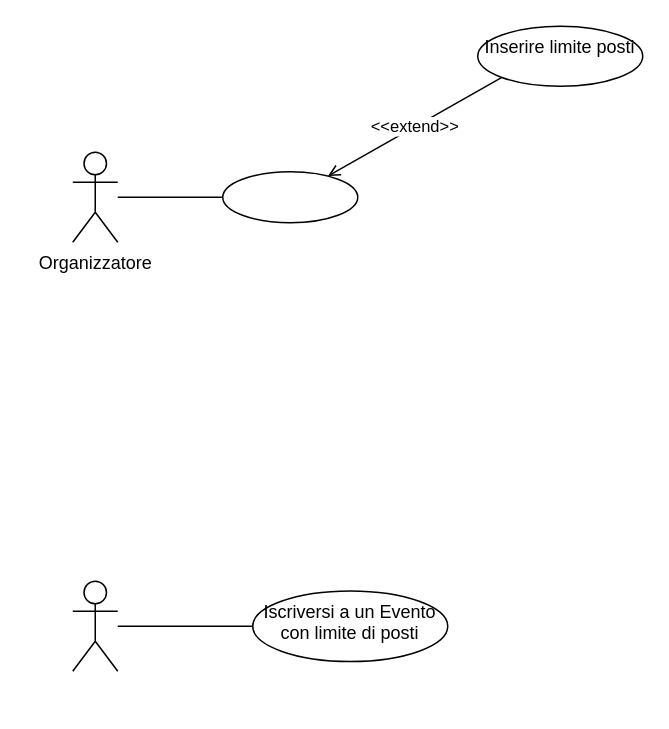
This 669x729 diagram has some shape labels left out. Each missing label, with the box of its shape:
Creare Evento: (221, 170, 358, 223)
Utente Personale: (71, 580, 118, 671)
